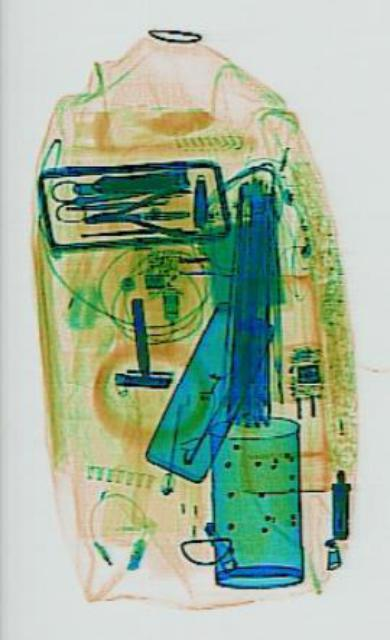Scissors: (48, 178, 163, 222)
